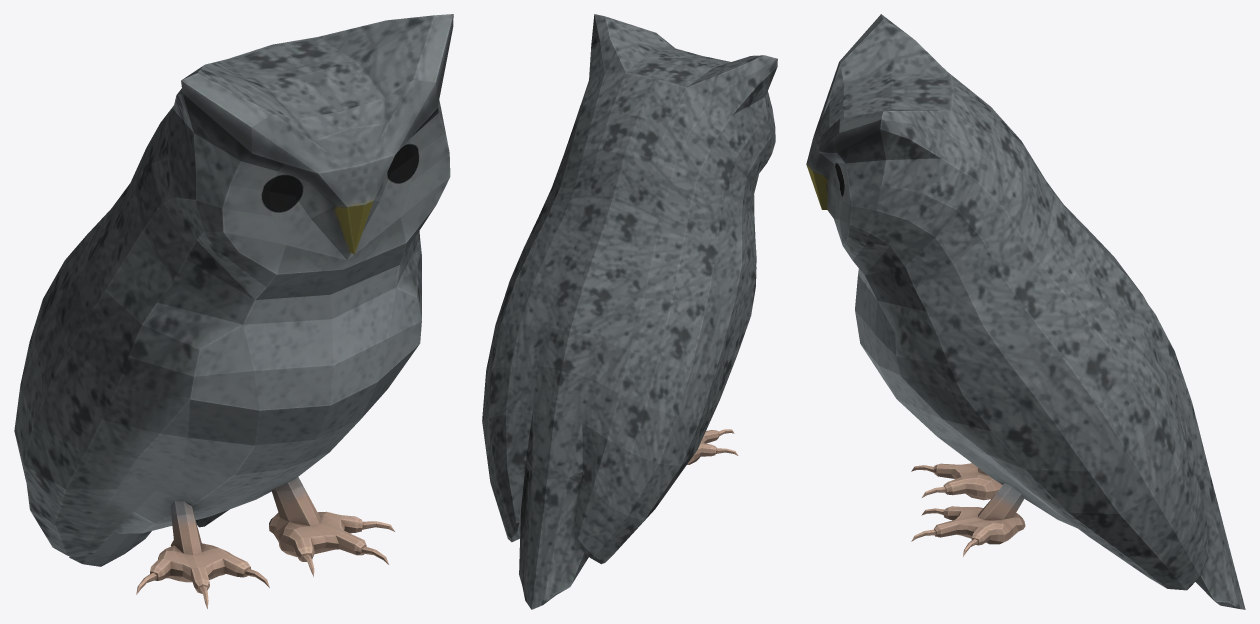
File: v3_owl.glb
3 renders of one model, left to right at view 1: azimuth 30°, elevation 25°; view 2: azimuth 150°, elevation 25°; view 3: azimuth 270°, elevation 25°, orthographic. The views are drawn at different scales.
Visible parts, largest first — view 1: ScreechOwl_mesh; view 2: ScreechOwl_mesh; view 3: ScreechOwl_mesh.
Part boxes in pixels (x1,y1,x2,y2): ScreechOwl_mesh: (14, 14, 453, 608); ScreechOwl_mesh: (482, 14, 777, 609); ScreechOwl_mesh: (806, 14, 1245, 609).
Size of the model in its own units: 2.99 by 6.31 by 4.62.
Materials: 1 (1 with a texture image).
